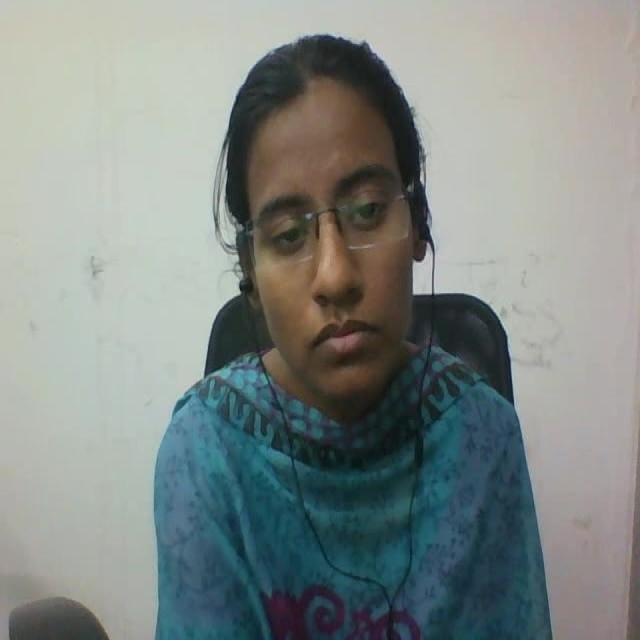Engaged: (195, 19, 458, 434)
